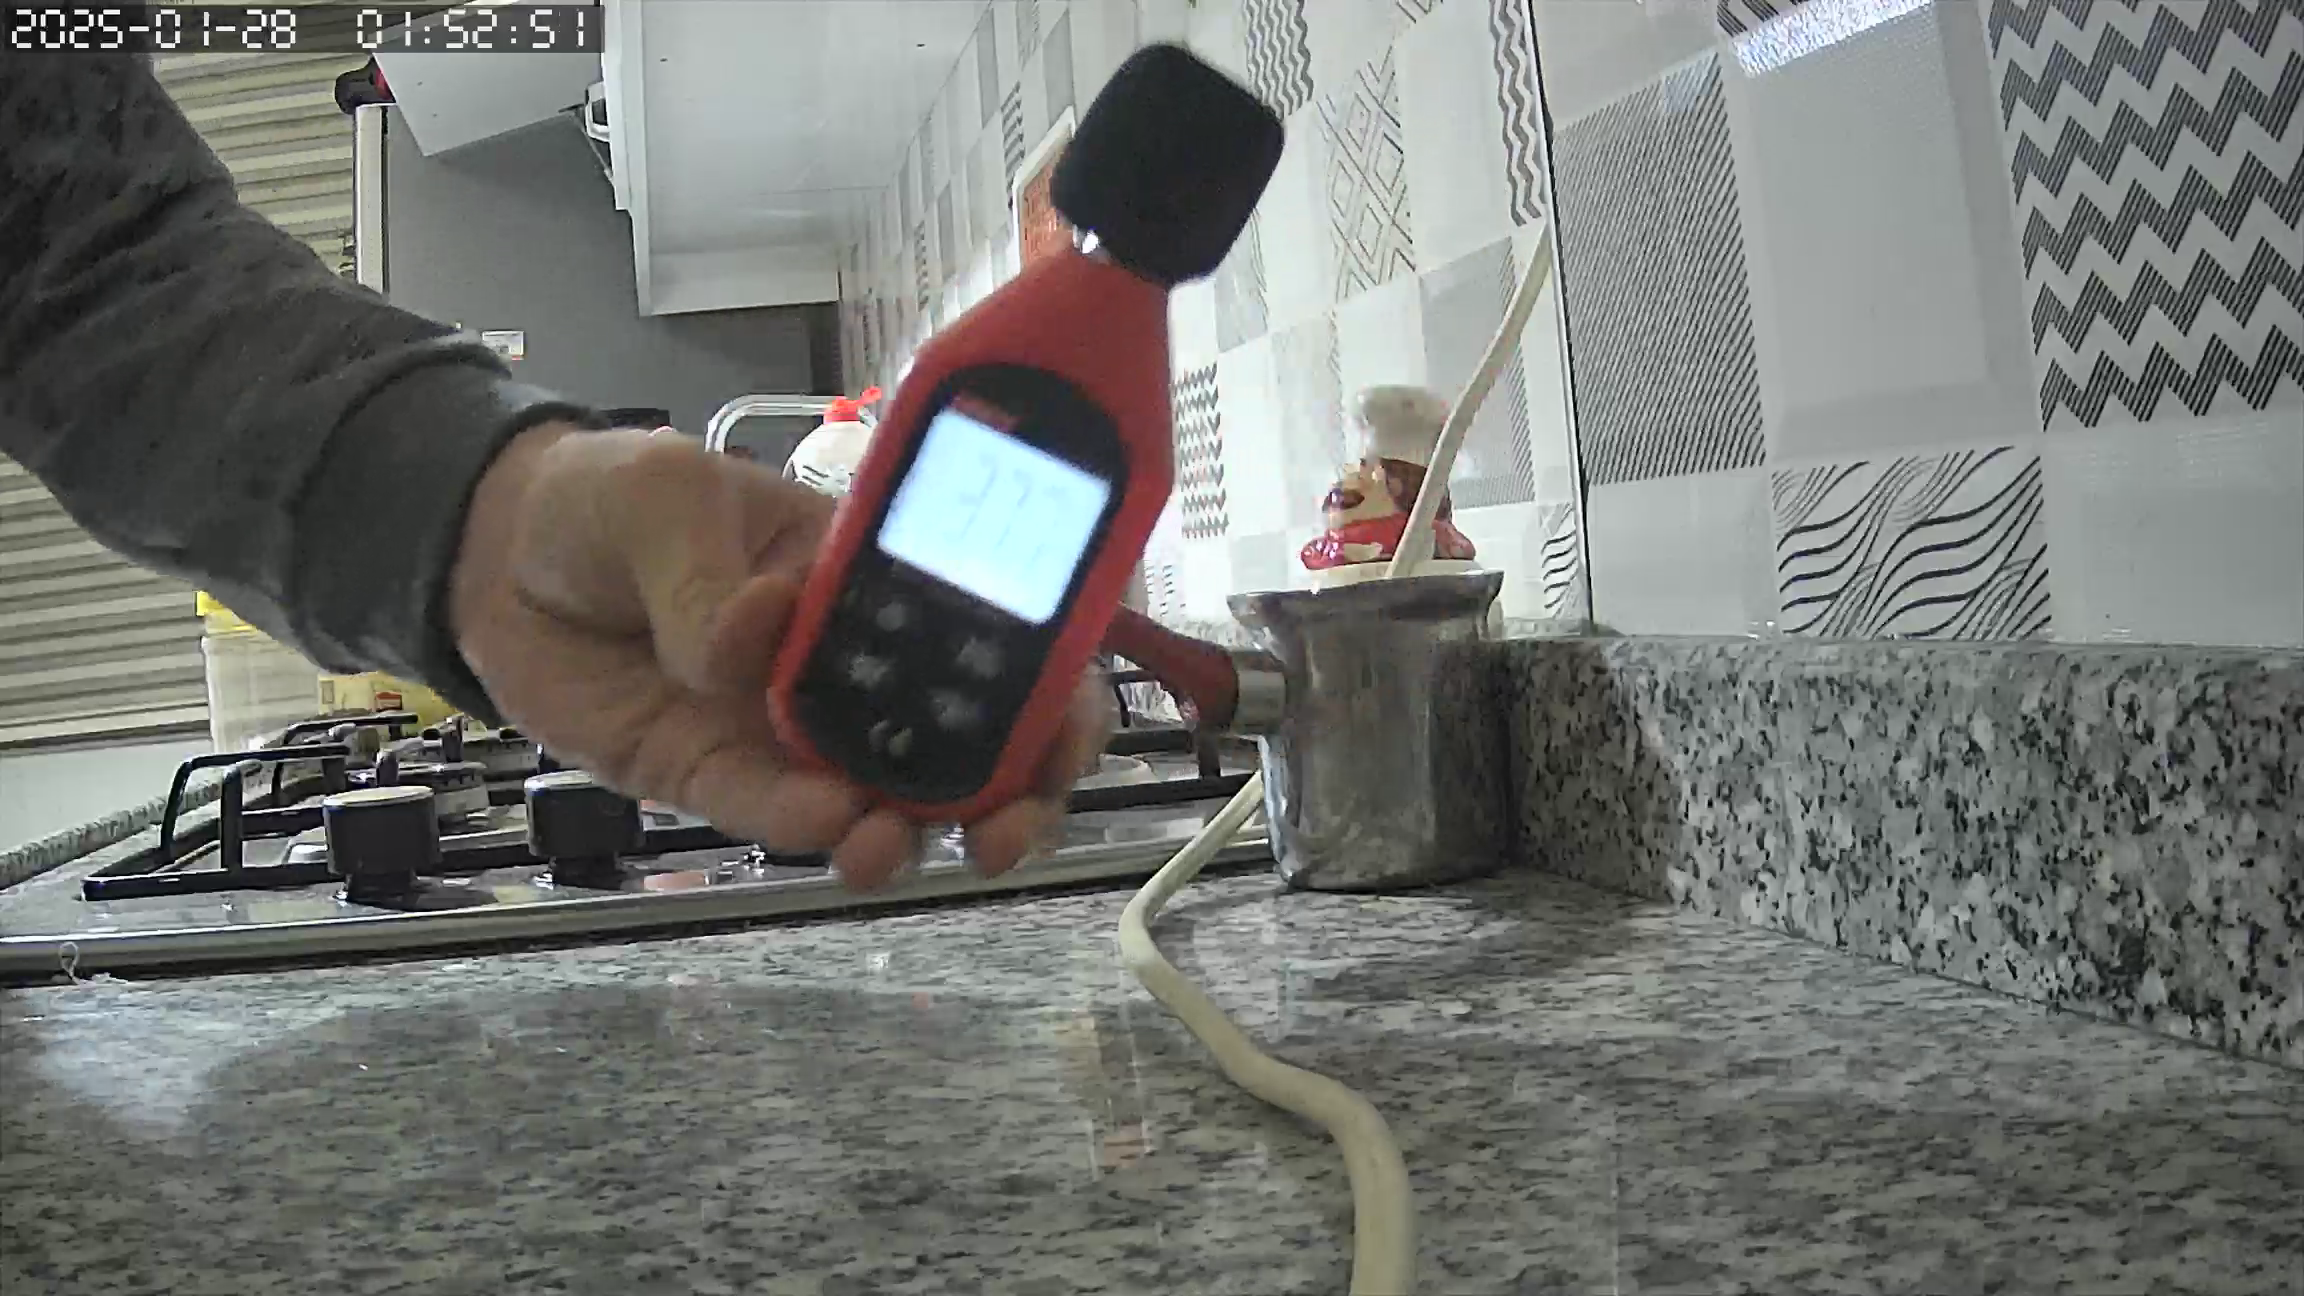screen: (877, 407, 1112, 630)
